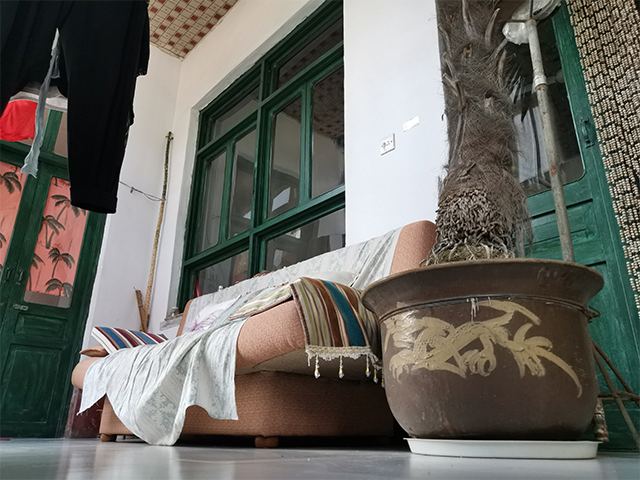sofa: (68, 219, 441, 449)
